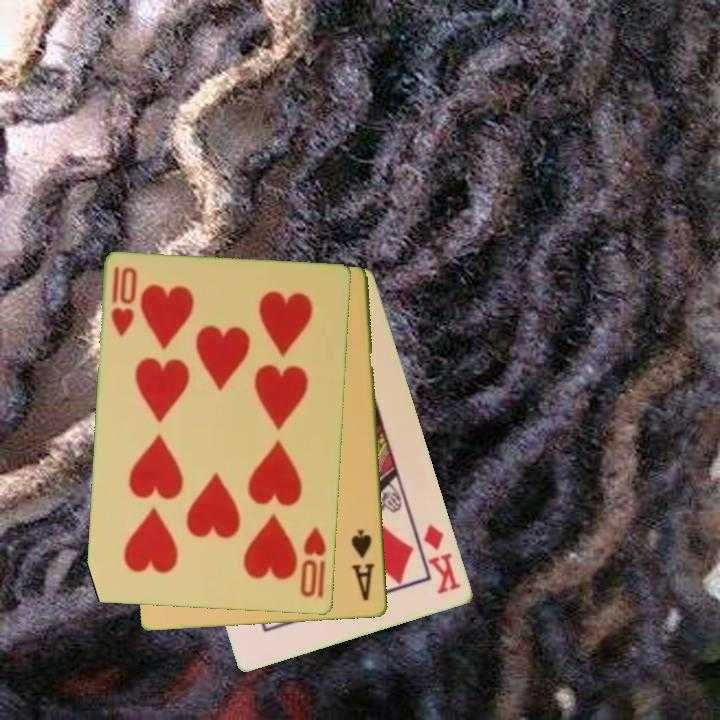10h: (297, 523, 330, 601), (108, 263, 141, 340)
As: (348, 527, 377, 605)
Kd: (420, 520, 464, 598)
